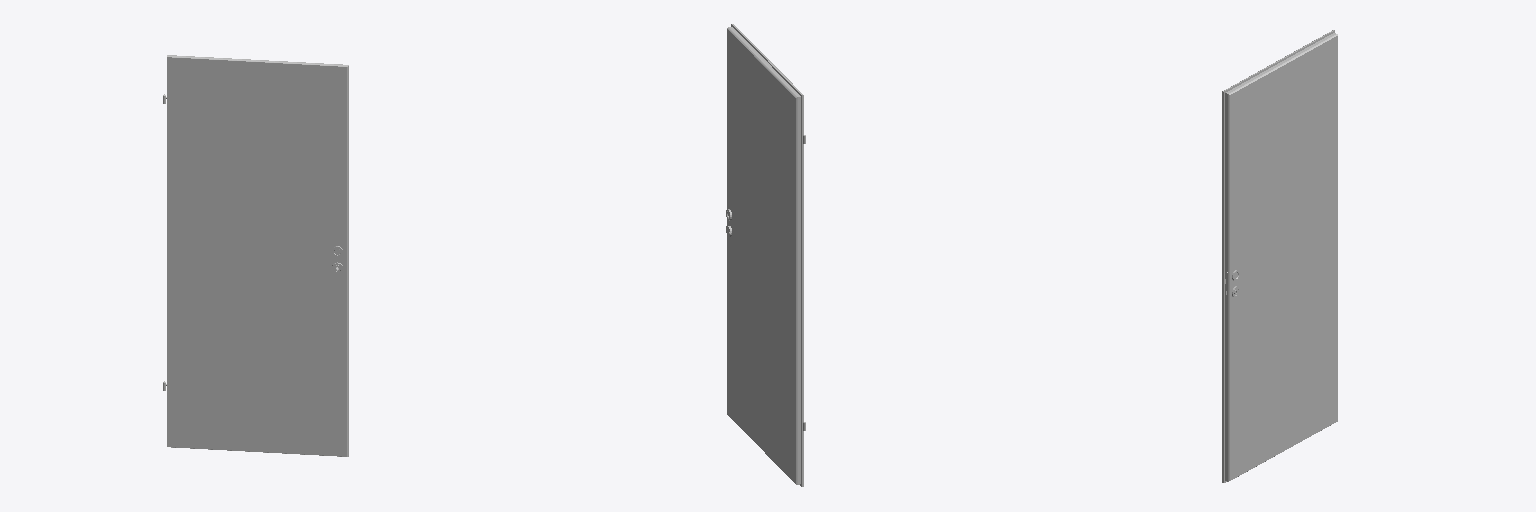
Rendered from Door1.obj.
The picture shows the model from 3 angles: view 1: azimuth 30°, elevation 25°; view 2: azimuth 150°, elevation 25°; view 3: azimuth 270°, elevation 25°; orthographic projection.
Visible parts, largest first — view 1: Plane.001; view 2: Plane.001; view 3: Plane.001.
Part boxes in pixels (x1,y1,x2,y2): Plane.001: (163,55,348,456); Plane.001: (726,24,805,486); Plane.001: (1222,30,1337,482).
Size of the model in its own units: 0.7019 by 2 by 0.5349.